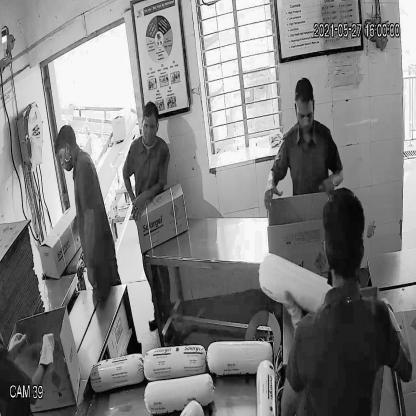no_goggles: (294, 103, 318, 126), (139, 118, 163, 138)
